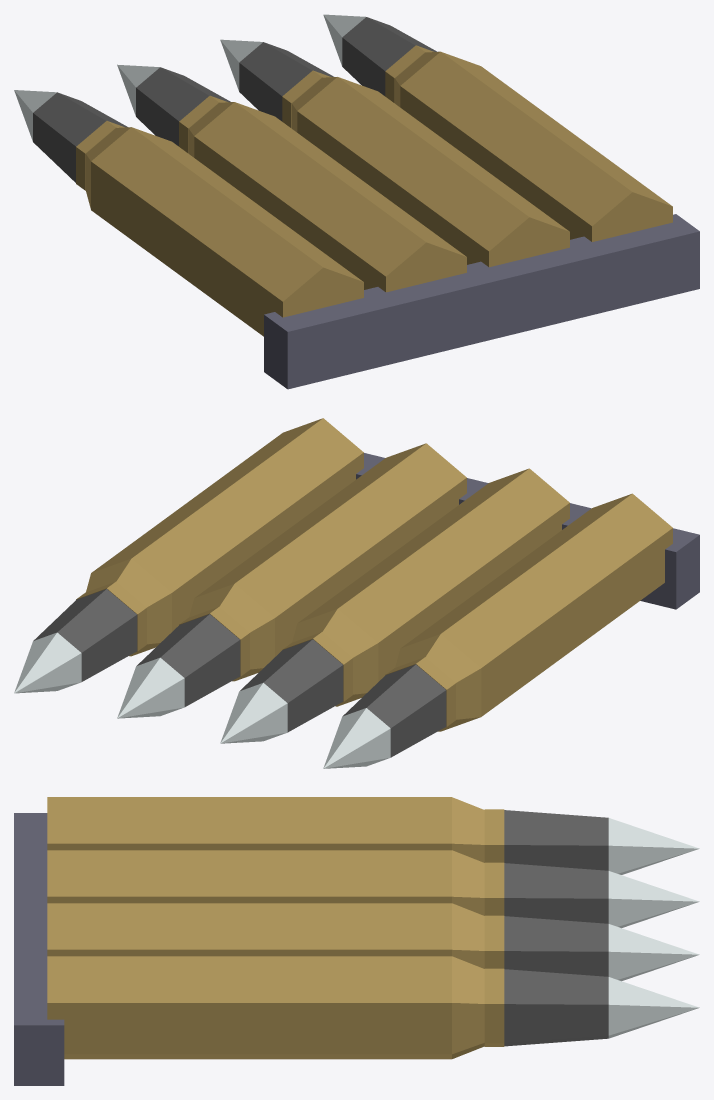
The model's file is ce_ammo_light_sabot_b.obj.
The picture shows the model from 3 angles, top to bottom: view 1: azimuth 30°, elevation 25°; view 2: azimuth 150°, elevation 25°; view 3: azimuth 270°, elevation 25°; orthographic projection. The views are drawn at different scales.
Parts seen in each view (by area): view 1: ce_ammo_light_sabot_b_20, ce_ammo_light_sabot_b_0, ce_ammo_light_sabot_b_10, ce_ammo_light_sabot_b_15, ce_ammo_light_sabot_b_5, ce_ammo_light_sabot_b_3, ce_ammo_light_sabot_b_18, ce_ammo_light_sabot_b_13, ce_ammo_light_sabot_b_8, ce_ammo_light_sabot_b_2, ce_ammo_light_sabot_b_14, ce_ammo_light_sabot_b_19 (+9 smaller); view 2: ce_ammo_light_sabot_b_0, ce_ammo_light_sabot_b_5, ce_ammo_light_sabot_b_10, ce_ammo_light_sabot_b_15, ce_ammo_light_sabot_b_3, ce_ammo_light_sabot_b_8, ce_ammo_light_sabot_b_18, ce_ammo_light_sabot_b_13, ce_ammo_light_sabot_b_20, ce_ammo_light_sabot_b_1, ce_ammo_light_sabot_b_6, ce_ammo_light_sabot_b_11 (+9 smaller); view 3: ce_ammo_light_sabot_b_15, ce_ammo_light_sabot_b_0, ce_ammo_light_sabot_b_5, ce_ammo_light_sabot_b_10, ce_ammo_light_sabot_b_20, ce_ammo_light_sabot_b_18, ce_ammo_light_sabot_b_8, ce_ammo_light_sabot_b_13, ce_ammo_light_sabot_b_3, ce_ammo_light_sabot_b_16, ce_ammo_light_sabot_b_19, ce_ammo_light_sabot_b_4 (+9 smaller).
Part boxes in pixels (x1,y1,x2,y2): ce_ammo_light_sabot_b_20: (264, 214, 699, 389); ce_ammo_light_sabot_b_0: (91, 127, 363, 336); ce_ammo_light_sabot_b_10: (297, 77, 569, 267); ce_ammo_light_sabot_b_15: (400, 52, 672, 241); ce_ammo_light_sabot_b_5: (194, 102, 466, 292); ce_ammo_light_sabot_b_3: (33, 92, 127, 182); ce_ammo_light_sabot_b_18: (342, 17, 437, 96); ce_ammo_light_sabot_b_13: (239, 42, 333, 121); ce_ammo_light_sabot_b_8: (136, 67, 230, 146); ce_ammo_light_sabot_b_2: (76, 121, 124, 190); ce_ammo_light_sabot_b_14: (220, 39, 262, 91); ce_ammo_light_sabot_b_19: (323, 14, 365, 66); ce_ammo_light_sabot_b_0: (401, 493, 672, 716); ce_ammo_light_sabot_b_5: (298, 468, 569, 681); ce_ammo_light_sabot_b_10: (195, 443, 466, 656); ce_ammo_light_sabot_b_15: (92, 418, 363, 631); ce_ammo_light_sabot_b_3: (342, 664, 446, 757); ce_ammo_light_sabot_b_8: (240, 639, 343, 732); ce_ammo_light_sabot_b_18: (33, 589, 137, 681); ce_ammo_light_sabot_b_13: (137, 614, 240, 706); ce_ammo_light_sabot_b_20: (356, 453, 699, 609); ce_ammo_light_sabot_b_1: (395, 634, 481, 731); ce_ammo_light_sabot_b_6: (292, 609, 378, 706); ce_ammo_light_sabot_b_11: (189, 583, 274, 681); ce_ammo_light_sabot_b_15: (47, 956, 451, 1059); ce_ammo_light_sabot_b_0: (47, 797, 451, 850); ce_ammo_light_sabot_b_5: (47, 850, 451, 903); ce_ammo_light_sabot_b_10: (47, 903, 451, 956); ce_ammo_light_sabot_b_20: (14, 813, 64, 1085); ce_ammo_light_sabot_b_18: (504, 969, 608, 1046); ce_ammo_light_sabot_b_8: (504, 863, 608, 923); ce_ammo_light_sabot_b_13: (504, 916, 608, 976); ce_ammo_light_sabot_b_3: (504, 810, 608, 870); ce_ammo_light_sabot_b_16: (452, 956, 484, 1058); ce_ammo_light_sabot_b_19: (608, 977, 699, 1038); ce_ammo_light_sabot_b_4: (608, 818, 699, 874).
Size of the model in its own units: 0.6 by 0.136 by 0.82.
